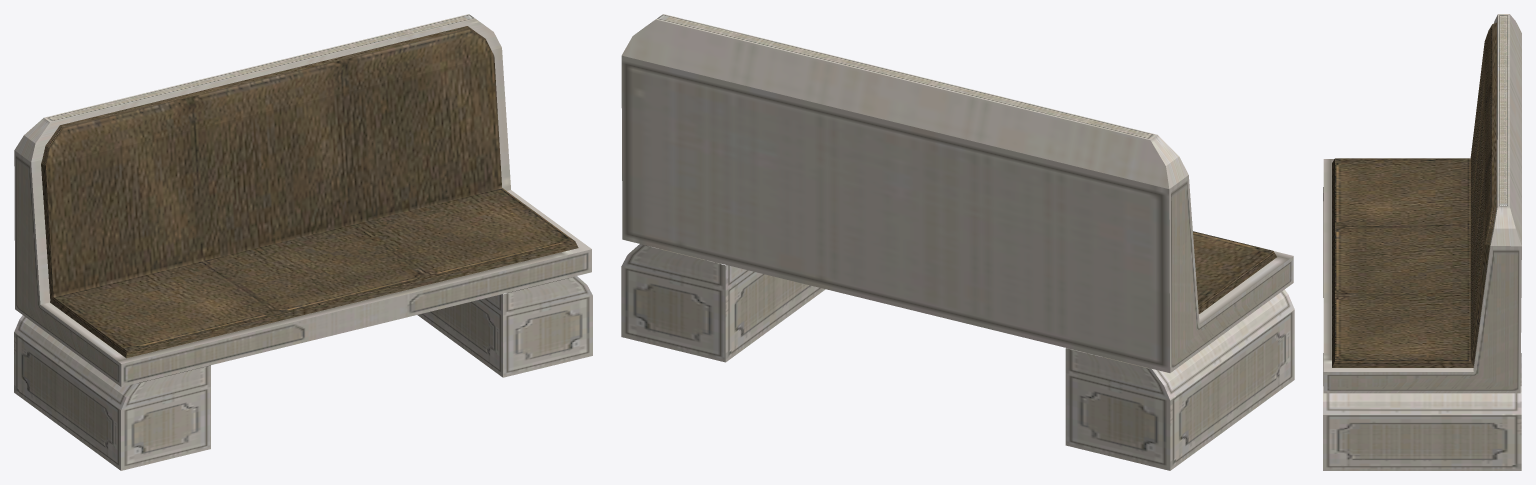
The model's file is frn_all_eleg_couch_s01_l0.fbx.
3 views of the same model, side by side, from view 1: azimuth 30°, elevation 25°; view 2: azimuth 150°, elevation 25°; view 3: azimuth 270°, elevation 25° (orthographic). The views are drawn at different scales.
Parts seen in each view (by area): view 1: mesh_node; view 2: mesh_node; view 3: mesh_node.
Boxes of the visible parts, <box> form: mesh_node: <box>14,14,592,470</box>; mesh_node: <box>621,14,1294,470</box>; mesh_node: <box>1323,14,1521,470</box>.
Bounding box in the file's own units: 1.8 × 0.9972 × 0.7077.
Materials: 1 (1 with a texture image).
